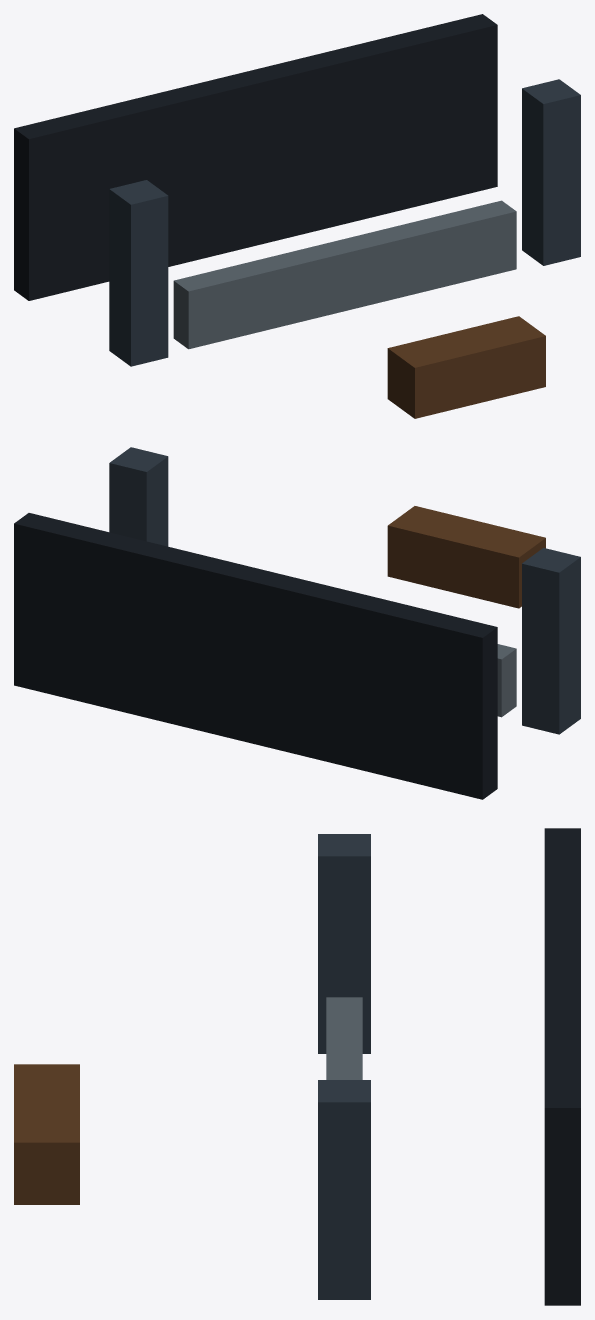
Rendered from module.overwatch_balcony_ground.glb.
The picture shows the model from 3 angles, top to bottom: view 1: azimuth 30°, elevation 25°; view 2: azimuth 150°, elevation 25°; view 3: azimuth 270°, elevation 25°; orthographic projection. The views are drawn at different scales.
Visible parts, largest first — view 1: balcony_back_wall, balcony_rail_cover, ground_cover, left_pillar, right_pillar; view 2: balcony_back_wall, ground_cover, left_pillar, right_pillar, balcony_rail_cover; view 3: balcony_back_wall, right_pillar, left_pillar, ground_cover, balcony_rail_cover.
Part boxes in pixels (x1,y1,x2,y2): balcony_back_wall: (14, 14, 497, 300); balcony_rail_cover: (173, 200, 516, 349); ground_cover: (387, 316, 545, 418); left_pillar: (109, 180, 168, 366); right_pillar: (522, 79, 580, 265); balcony_back_wall: (14, 513, 497, 799); ground_cover: (387, 506, 545, 608); left_pillar: (522, 548, 580, 734); right_pillar: (109, 447, 168, 546); balcony_rail_cover: (497, 644, 516, 717); balcony_back_wall: (544, 828, 580, 1305); right_pillar: (318, 1080, 370, 1299); left_pillar: (318, 834, 370, 1053); ground_cover: (14, 1064, 79, 1204); balcony_rail_cover: (326, 997, 362, 1079).
Bounding box in the file's own units: 10 × 3.3 × 8.58.
